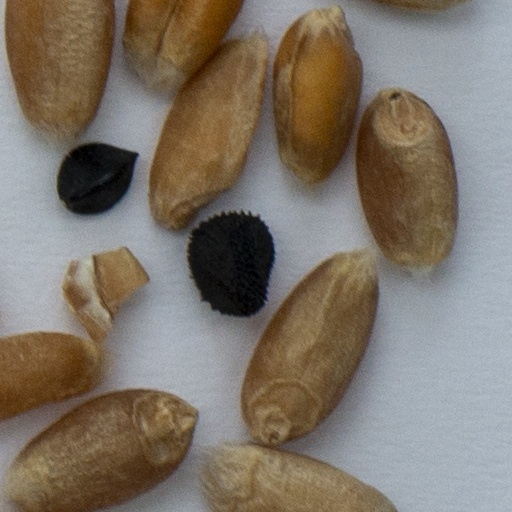Agrostemma-poly: (187, 212, 271, 313)
Fallopia-Convolvulus-poly: (60, 144, 135, 211)
Wheat-grain-damaged-poly: (63, 248, 147, 341)
